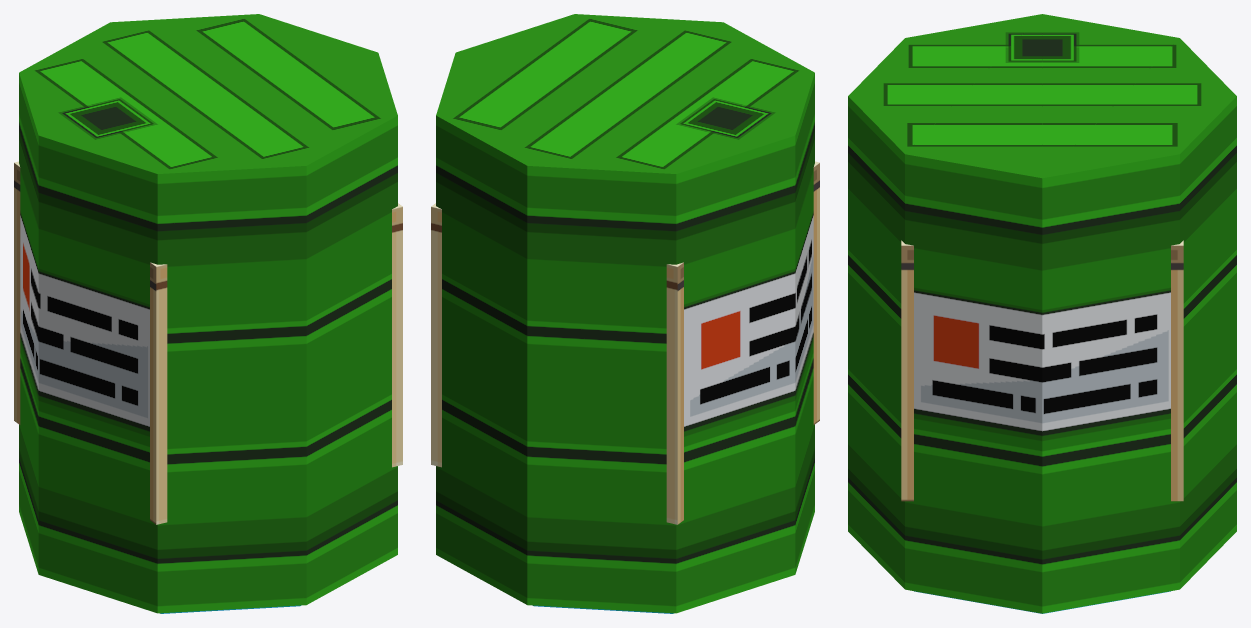
The model's file is props_02.fbx.
The picture shows the model from 3 angles, left to right: view 1: azimuth 30°, elevation 25°; view 2: azimuth 150°, elevation 25°; view 3: azimuth 270°, elevation 25°; orthographic projection.
Parts seen in each view (by area): view 1: barrel_green, box_wood; view 2: barrel_green, box_wood; view 3: barrel_green, box_wood.
Boxes of the visible parts, <box> form: barrel_green: <box>19,14,397,613</box>; box_wood: <box>14,161,402,524</box>; barrel_green: <box>436,14,814,613</box>; box_wood: <box>431,161,819,524</box>; barrel_green: <box>848,14,1236,613</box>; box_wood: <box>901,240,1183,501</box>.
Size of the model in its own units: 2 by 2.5 by 2.
